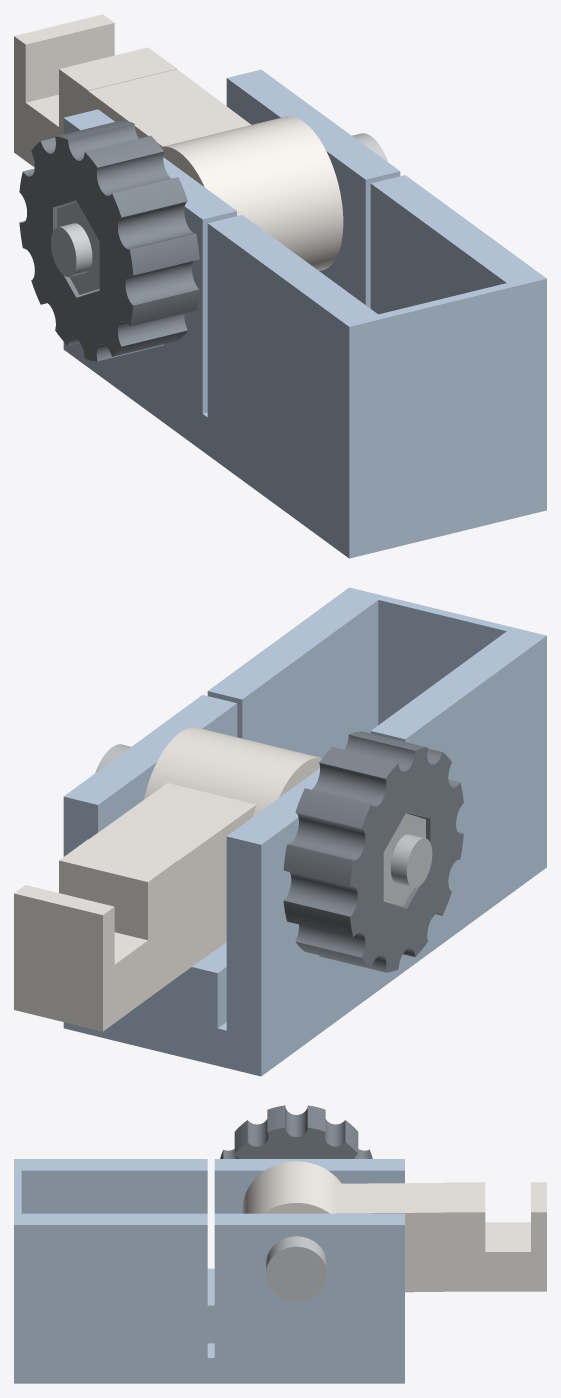
3 views of the same model, one above another, from view 1: azimuth 30°, elevation 25°; view 2: azimuth 150°, elevation 25°; view 3: azimuth 270°, elevation 25° (orthographic). The views are drawn at different scales.
Visible parts, largest first — view 1: connector, moving, knob, bolt; view 2: connector, moving, knob, bolt; view 3: connector, moving, knob, bolt.
Part boxes in pixels (left/top/right/bottom): connector: left=63, top=69, right=546, bottom=558; moving: left=14, top=14, right=343, bottom=270; knob: left=19, top=120, right=199, bottom=361; bolt: left=51, top=133, right=387, bottom=294; connector: left=63, top=587, right=546, bottom=1076; moving: left=14, top=727, right=321, bottom=1031; knob: left=283, top=731, right=463, bottom=972; bolt: left=95, top=744, right=432, bottom=905; connector: left=14, top=1159, right=404, bottom=1383; moving: left=242, top=1161, right=546, bottom=1292; knob: left=220, top=1105, right=372, bottom=1158; bolt: left=266, top=1236, right=326, bottom=1302.
Size of the model in its own units: 27.8 by 23.98 by 60.96.
